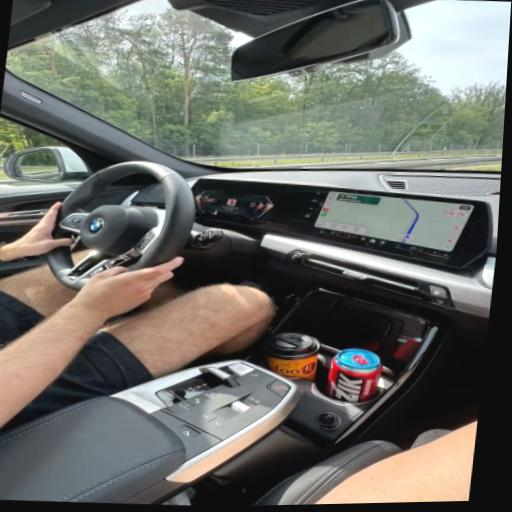Hands-on-the-Wheel: (64, 246, 280, 334), (0, 189, 126, 276)
